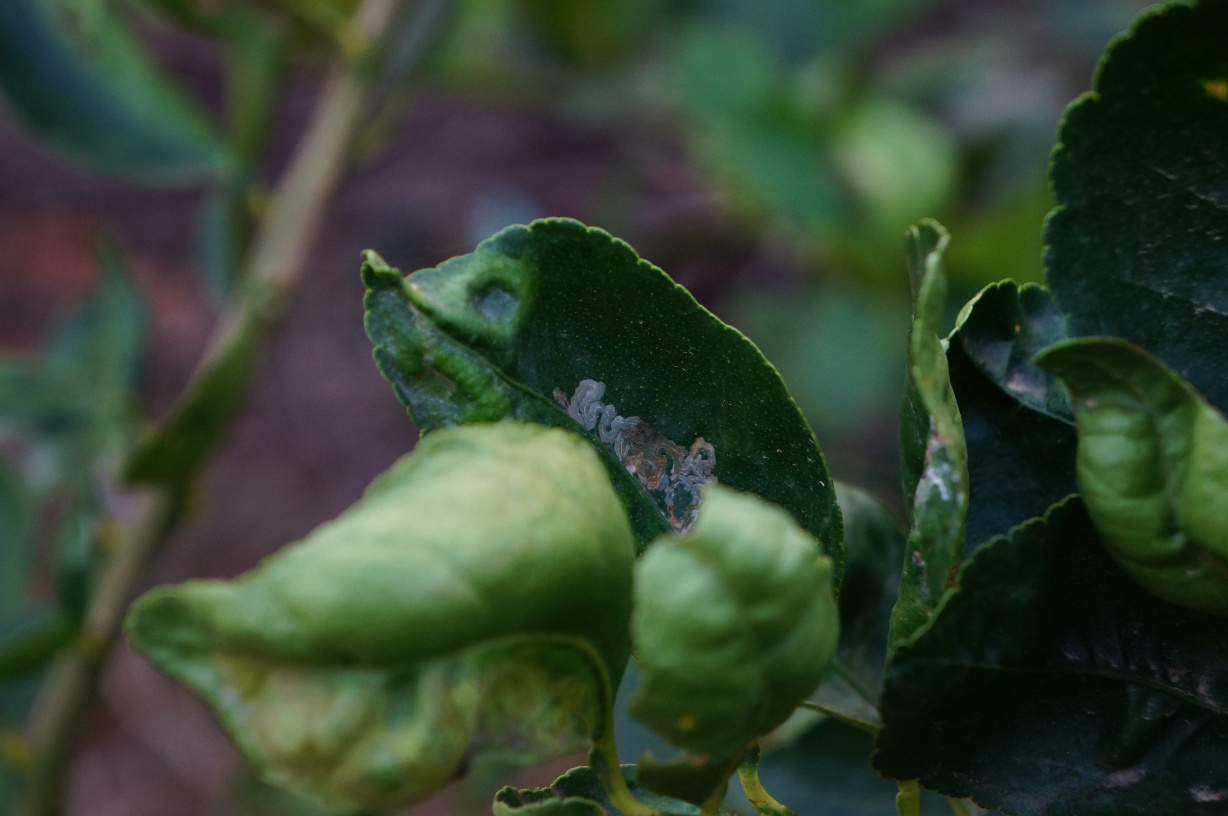damage: (546, 374, 728, 545)
